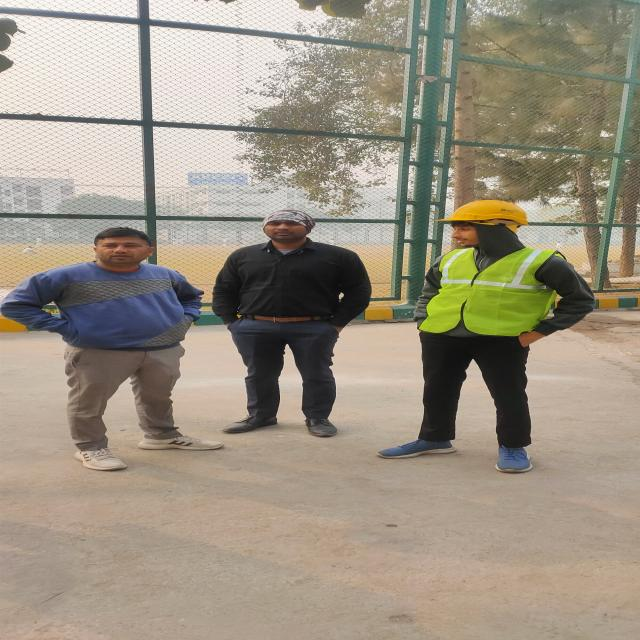safe: (390, 199, 575, 459)
unsafe: (60, 221, 198, 474), (218, 205, 357, 437)
